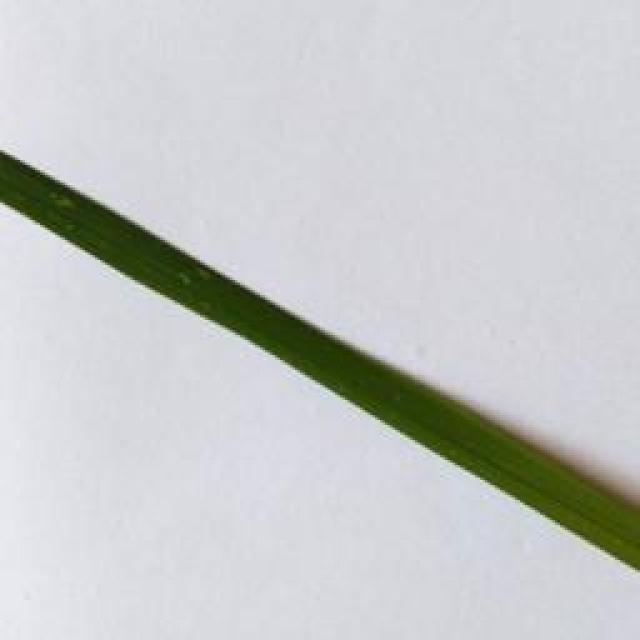Bacterial_Blight: (0, 145, 640, 570)
